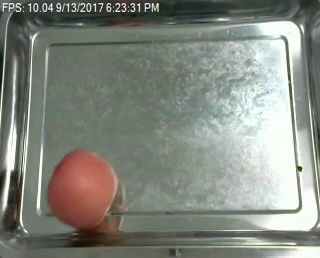Apple: (45, 147, 118, 231)
